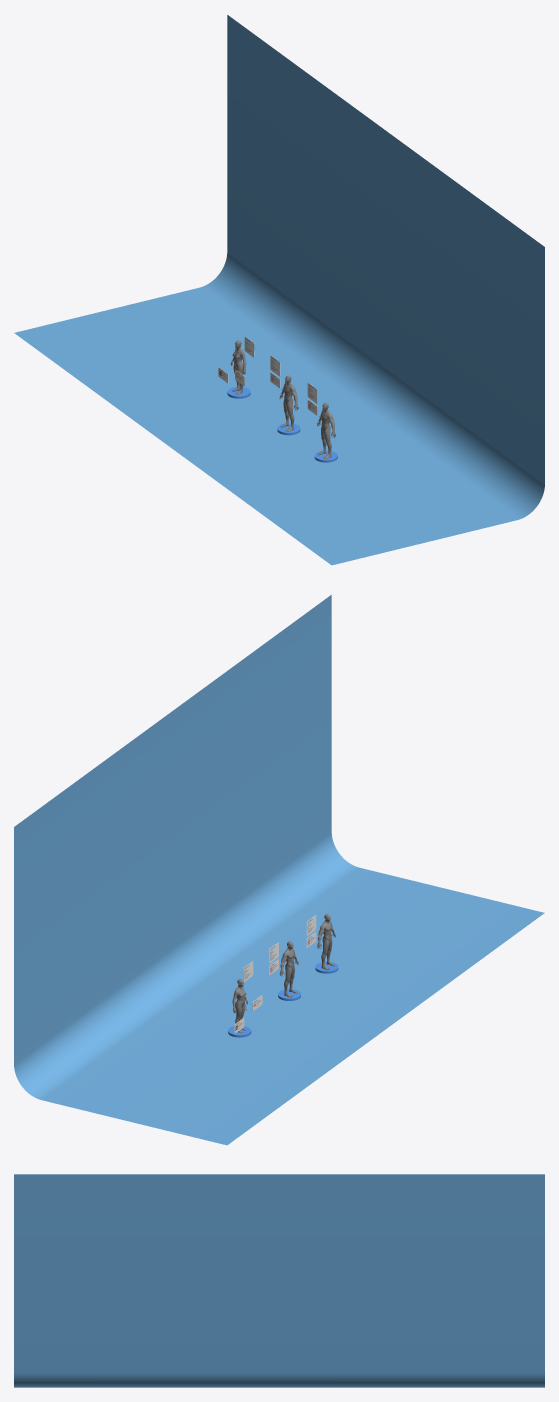
Rendered from malebody.gltf.
3 views of the same model, one above another, from view 1: azimuth 30°, elevation 25°; view 2: azimuth 150°, elevation 25°; view 3: azimuth 270°, elevation 25° (orthographic). The views are drawn at different scales.
Parts seen in each view (by area): view 1: Plane; view 2: Plane; view 3: Plane.
Boxes of the visible parts, bbox=[...] form: Plane: bbox=[14, 15, 544, 565]; Plane: bbox=[14, 595, 544, 1145]; Plane: bbox=[14, 1174, 544, 1387].
Size of the model in its own units: 205 by 246 by 530.
Materials: 19 (7 with a texture image).
